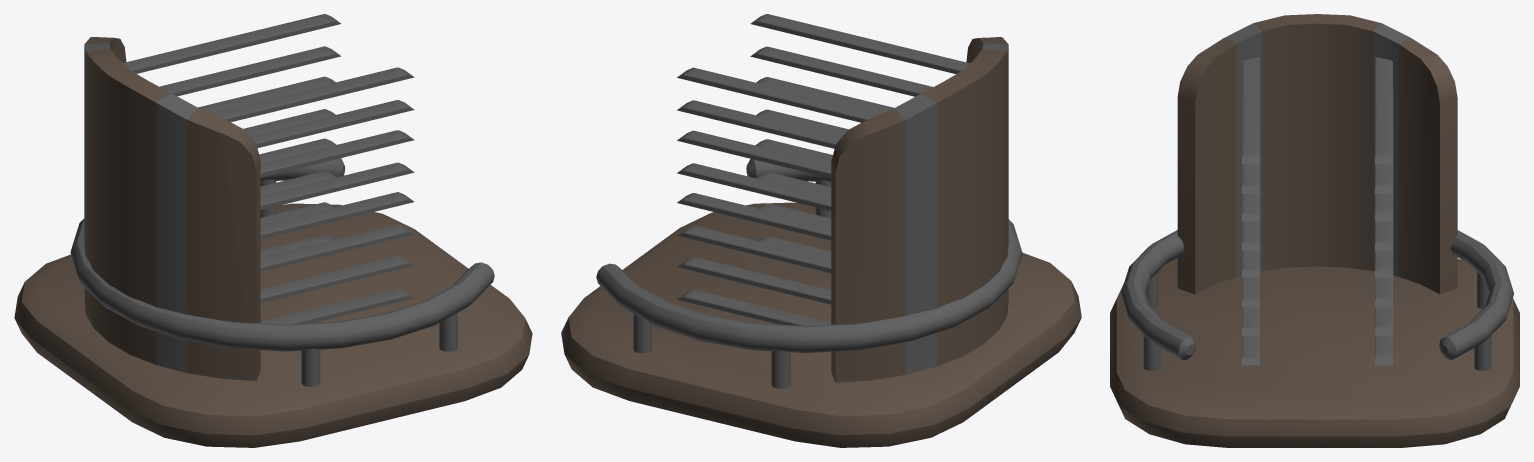
File: Plate rack.fbx
3 views of the same model, side by side, from view 1: azimuth 30°, elevation 25°; view 2: azimuth 150°, elevation 25°; view 3: azimuth 270°, elevation 25° (orthographic). The views are drawn at different scales.
Parts seen in each view (by area): view 1: Cube.005; view 2: Cube.005; view 3: Cube.005.
Boxes of the visible parts, bbox=[...] form: Cube.005: bbox=[14, 14, 532, 447]; Cube.005: bbox=[561, 14, 1081, 447]; Cube.005: bbox=[1110, 14, 1519, 447].
Size of the model in its own units: 62.86 by 47.96 by 62.86.
